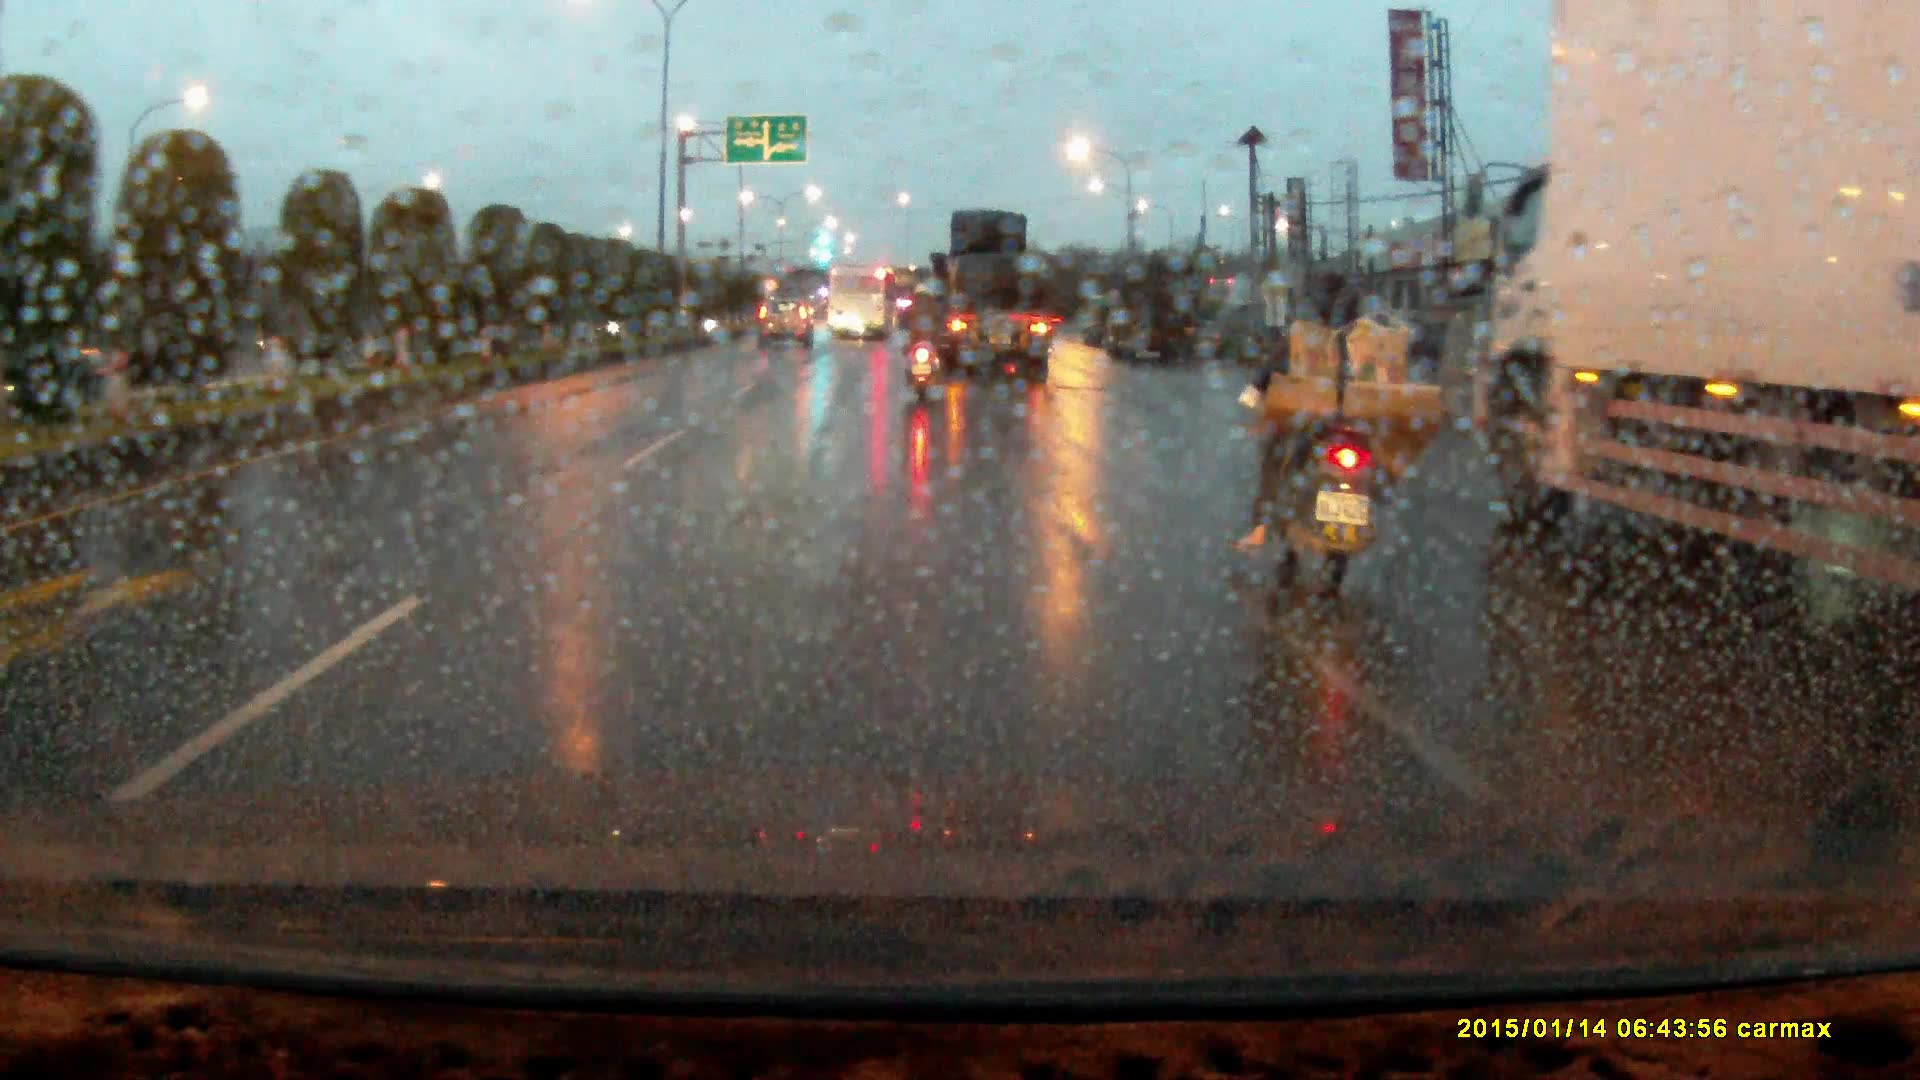rider: (1235, 253, 1449, 604), (905, 277, 951, 393)
vehicle: (1468, 1, 1920, 597), (910, 209, 1054, 386), (1114, 258, 1201, 360), (829, 266, 898, 345), (759, 292, 816, 341), (1078, 295, 1123, 349)
